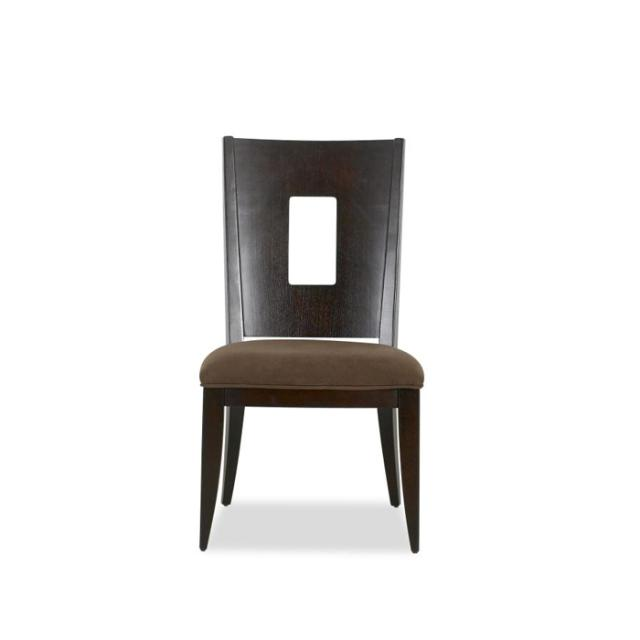chair: (198, 135, 424, 553)
